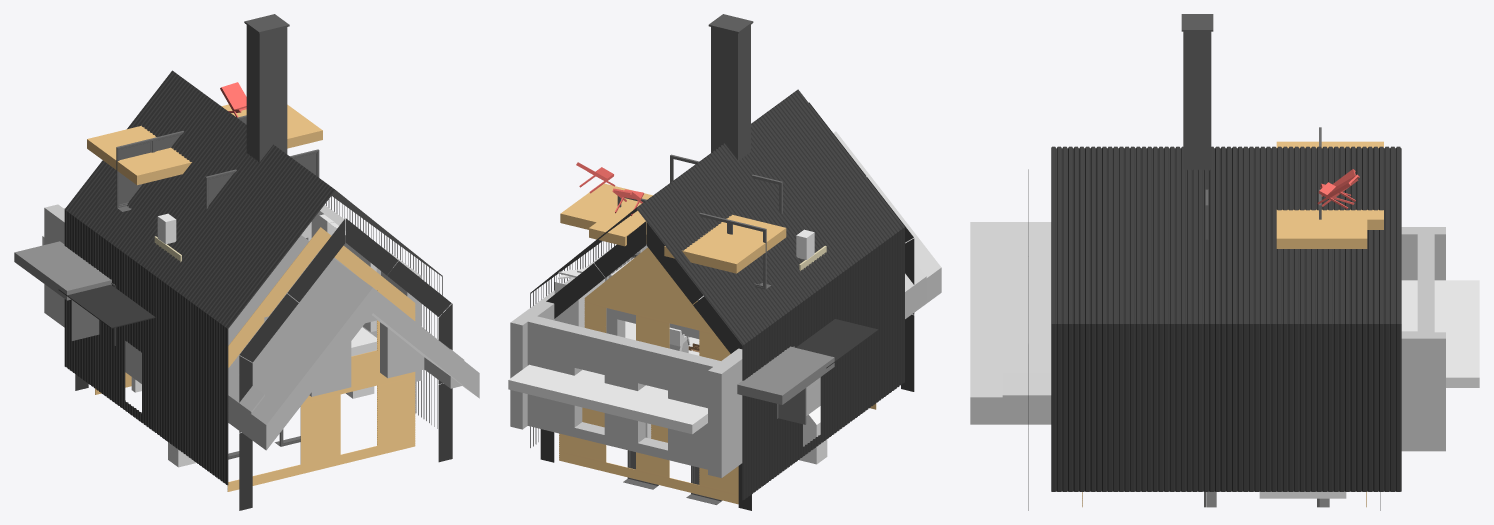
Rendered from sceneModel.glb.
3 views of the same model, side by side, from view 1: azimuth 30°, elevation 25°; view 2: azimuth 150°, elevation 25°; view 3: azimuth 270°, elevation 25° (orthographic). The views are drawn at different scales.
Parts seen in each view (by area): view 1: 99260302-b0a7-456f-85a6-fb982b88d1a1-mesh, 0197eafc-e0ff-4db0-b68a-3e2a630b7ba2-mesh, c4d5aaa9-8ef5-4154-a091-b7c374bec363-mesh, 537720ed-e754-4e56-968a-f27afc7a2a49-mesh, 532b09c1-0b94-4078-bb71-db59570a901e-mesh, 3f2d3408-c7ef-4b01-b802-100f06b8bb19-mesh, b4df87d6-3772-4753-9082-eddefc3663ae-mesh, 4531894a-d4ad-48d6-9331-40f6b8a79a5e-mesh, 7a5df23f-b428-478b-bbaa-a96873e01a14-mesh, 27c6b3f6-3c7f-4ba3-8d3f-d47aff3312a7-mesh, a4a708a8-24d3-4564-8d3f-7106817e1c34-mesh, 65bd9fcf-4b4d-4f5a-9ee4-0d904488e727-mesh (+4 smaller); view 2: 99260302-b0a7-456f-85a6-fb982b88d1a1-mesh, 7a5df23f-b428-478b-bbaa-a96873e01a14-mesh, c4d5aaa9-8ef5-4154-a091-b7c374bec363-mesh, 537720ed-e754-4e56-968a-f27afc7a2a49-mesh, b4df87d6-3772-4753-9082-eddefc3663ae-mesh, dc739e76-78ab-4a7e-ad85-1664fc1bd726-mesh, 532b09c1-0b94-4078-bb71-db59570a901e-mesh, 4531894a-d4ad-48d6-9331-40f6b8a79a5e-mesh, 3f2d3408-c7ef-4b01-b802-100f06b8bb19-mesh, 27c6b3f6-3c7f-4ba3-8d3f-d47aff3312a7-mesh, 0197eafc-e0ff-4db0-b68a-3e2a630b7ba2-mesh, 7efd10e4-09fc-4e95-b722-4bcb99865384-mesh (+4 smaller); view 3: 99260302-b0a7-456f-85a6-fb982b88d1a1-mesh, 0197eafc-e0ff-4db0-b68a-3e2a630b7ba2-mesh, 7a5df23f-b428-478b-bbaa-a96873e01a14-mesh, dc739e76-78ab-4a7e-ad85-1664fc1bd726-mesh, 532b09c1-0b94-4078-bb71-db59570a901e-mesh, b4df87d6-3772-4753-9082-eddefc3663ae-mesh, 3f2d3408-c7ef-4b01-b802-100f06b8bb19-mesh, 598083f2-f907-4d4f-aaf4-7f4c93f8e23d-mesh.
Boxes of the visible parts, x1,y1,x2,y2 form: 99260302-b0a7-456f-85a6-fb982b88d1a1-mesh: [64, 70, 442, 485]; 0197eafc-e0ff-4db0-b68a-3e2a630b7ba2-mesh: [125, 235, 479, 450]; c4d5aaa9-8ef5-4154-a091-b7c374bec363-mesh: [95, 227, 415, 491]; 537720ed-e754-4e56-968a-f27afc7a2a49-mesh: [75, 218, 452, 510]; 532b09c1-0b94-4078-bb71-db59570a901e-mesh: [244, 14, 289, 161]; 3f2d3408-c7ef-4b01-b802-100f06b8bb19-mesh: [125, 257, 464, 436]; b4df87d6-3772-4753-9082-eddefc3663ae-mesh: [87, 104, 322, 185]; 4531894a-d4ad-48d6-9331-40f6b8a79a5e-mesh: [14, 241, 111, 300]; 7a5df23f-b428-478b-bbaa-a96873e01a14-mesh: [44, 204, 421, 383]; 27c6b3f6-3c7f-4ba3-8d3f-d47aff3312a7-mesh: [58, 284, 155, 328]; a4a708a8-24d3-4564-8d3f-7106817e1c34-mesh: [116, 131, 183, 211]; 65bd9fcf-4b4d-4f5a-9ee4-0d904488e727-mesh: [71, 282, 115, 345]; 99260302-b0a7-456f-85a6-fb982b88d1a1-mesh: [530, 89, 904, 500]; 7a5df23f-b428-478b-bbaa-a96873e01a14-mesh: [510, 244, 820, 477]; c4d5aaa9-8ef5-4154-a091-b7c374bec363-mesh: [559, 247, 876, 504]; 537720ed-e754-4e56-968a-f27afc7a2a49-mesh: [540, 102, 914, 510]; b4df87d6-3772-4753-9082-eddefc3663ae-mesh: [560, 183, 786, 273]; dc739e76-78ab-4a7e-ad85-1664fc1bd726-mesh: [508, 321, 707, 434]; 532b09c1-0b94-4078-bb71-db59570a901e-mesh: [708, 14, 753, 160]; 4531894a-d4ad-48d6-9331-40f6b8a79a5e-mesh: [737, 346, 834, 404]; 3f2d3408-c7ef-4b01-b802-100f06b8bb19-mesh: [606, 261, 926, 352]; 27c6b3f6-3c7f-4ba3-8d3f-d47aff3312a7-mesh: [796, 319, 878, 368]; 0197eafc-e0ff-4db0-b68a-3e2a630b7ba2-mesh: [806, 131, 941, 390]; 7efd10e4-09fc-4e95-b722-4bcb99865384-mesh: [554, 249, 641, 327]; 99260302-b0a7-456f-85a6-fb982b88d1a1-mesh: [1051, 146, 1401, 491]; 0197eafc-e0ff-4db0-b68a-3e2a630b7ba2-mesh: [970, 222, 1051, 424]; 7a5df23f-b428-478b-bbaa-a96873e01a14-mesh: [1401, 227, 1445, 451]; dc739e76-78ab-4a7e-ad85-1664fc1bd726-mesh: [1401, 280, 1479, 387]; 532b09c1-0b94-4078-bb71-db59570a901e-mesh: [1181, 14, 1213, 170]; b4df87d6-3772-4753-9082-eddefc3663ae-mesh: [1276, 141, 1383, 248]; 3f2d3408-c7ef-4b01-b802-100f06b8bb19-mesh: [1002, 372, 1051, 422]; 598083f2-f907-4d4f-aaf4-7f4c93f8e23d-mesh: [1259, 491, 1346, 498].
Bounding box in the file's own units: 8.54 × 13.49 × 13.52.
